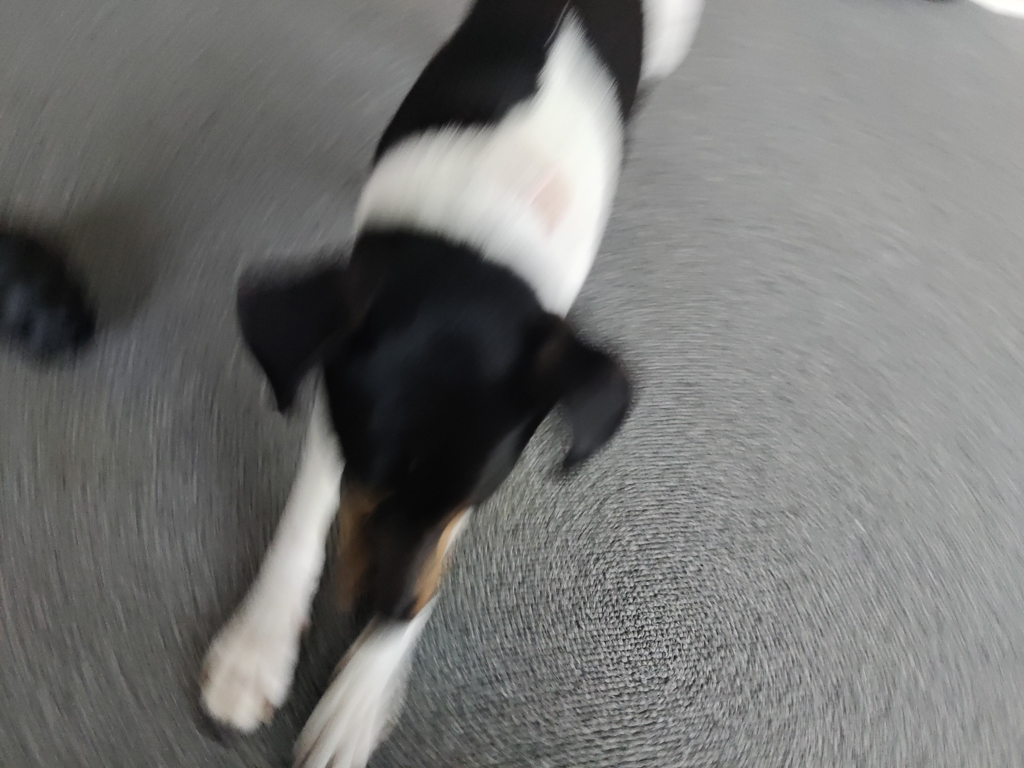Dog: (183, 0, 732, 768)
